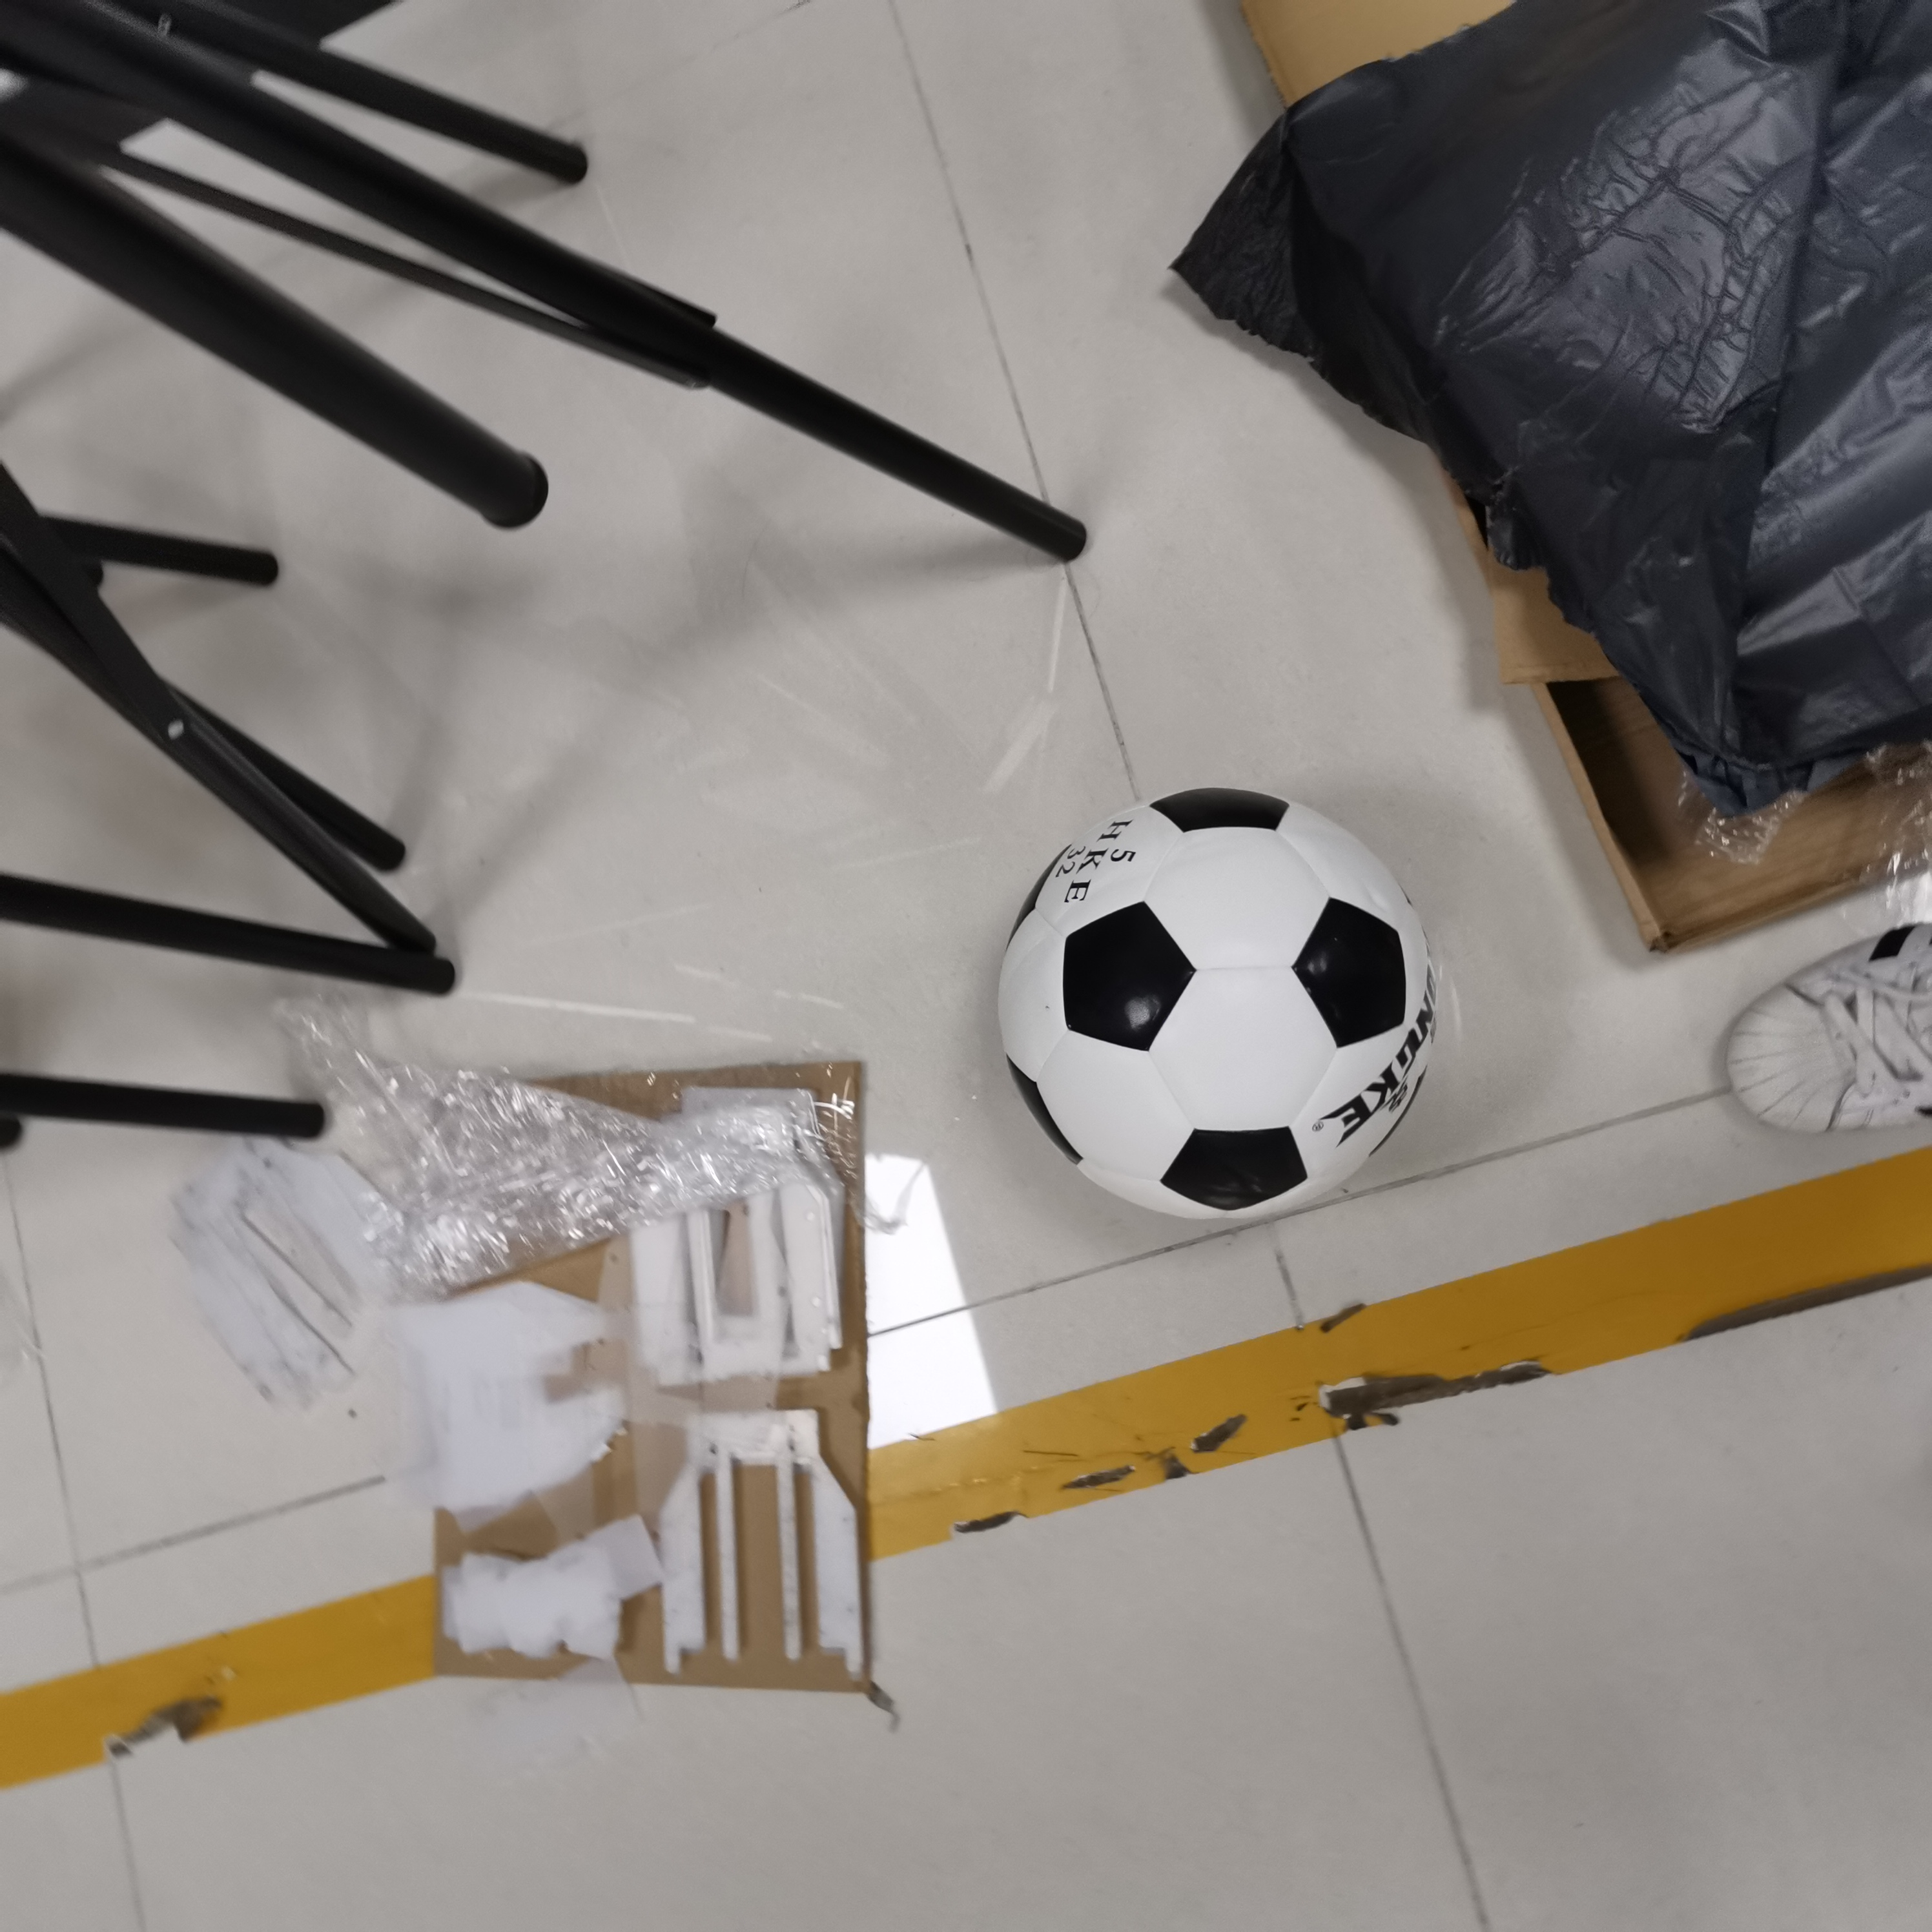football: (994, 791, 1440, 1224)
